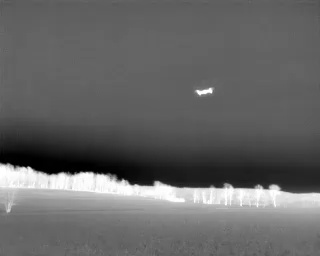DRONE: (192, 82, 218, 101)
